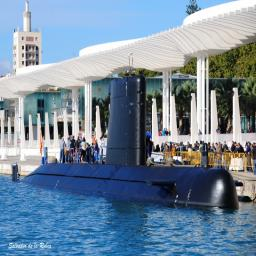submarine: (13, 77, 241, 210)
